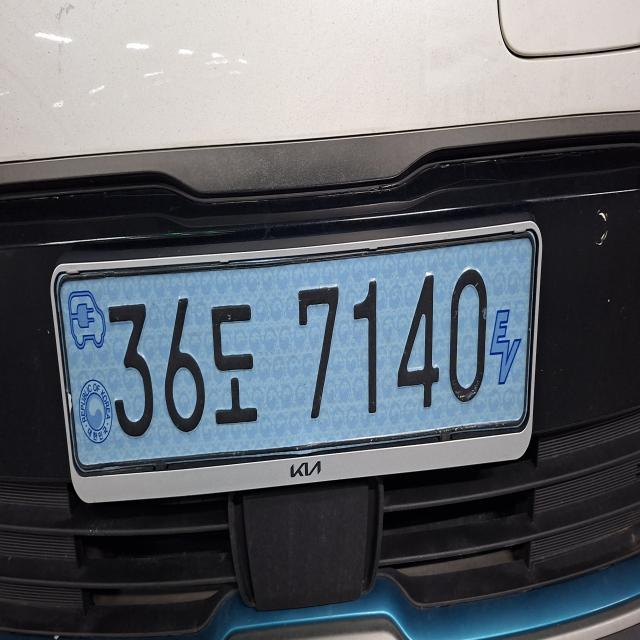car: (46, 196, 556, 516)
carev: (67, 289, 113, 449), (488, 303, 524, 394)
